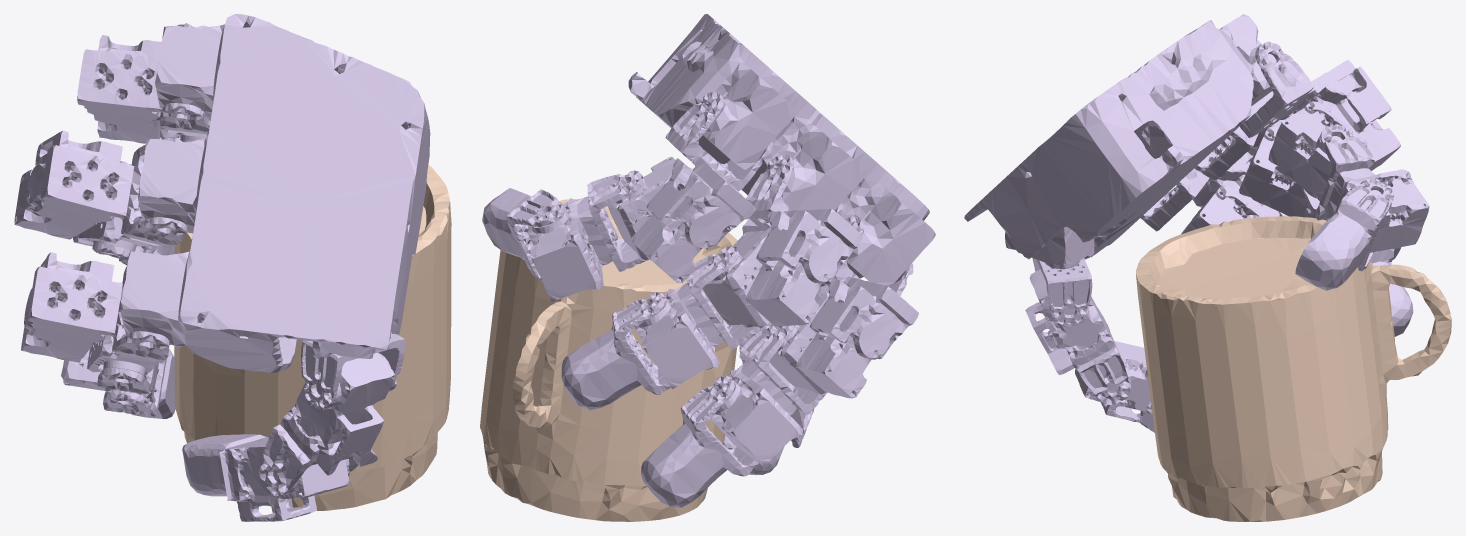
File: d26c1305382282-closed.glb
3 renders of one model, left to right at view 1: azimuth 30°, elevation 25°; view 2: azimuth 150°, elevation 25°; view 3: azimuth 270°, elevation 25°, orthographic. The views are drawn at different scales.
Parts seen in each view (by area): view 1: LEAP_hand, world; view 2: LEAP_hand, world; view 3: LEAP_hand, world.
Boxes of the visible parts, x1,y1,x2,y2 form: LEAP_hand: [14, 14, 430, 521]; world: [174, 165, 451, 510]; LEAP_hand: [482, 14, 935, 507]; world: [480, 199, 737, 521]; LEAP_hand: [964, 14, 1429, 432]; world: [1136, 216, 1451, 521].
Bounding box in the file's own units: 0.1895 × 0.2086 × 0.2166.
